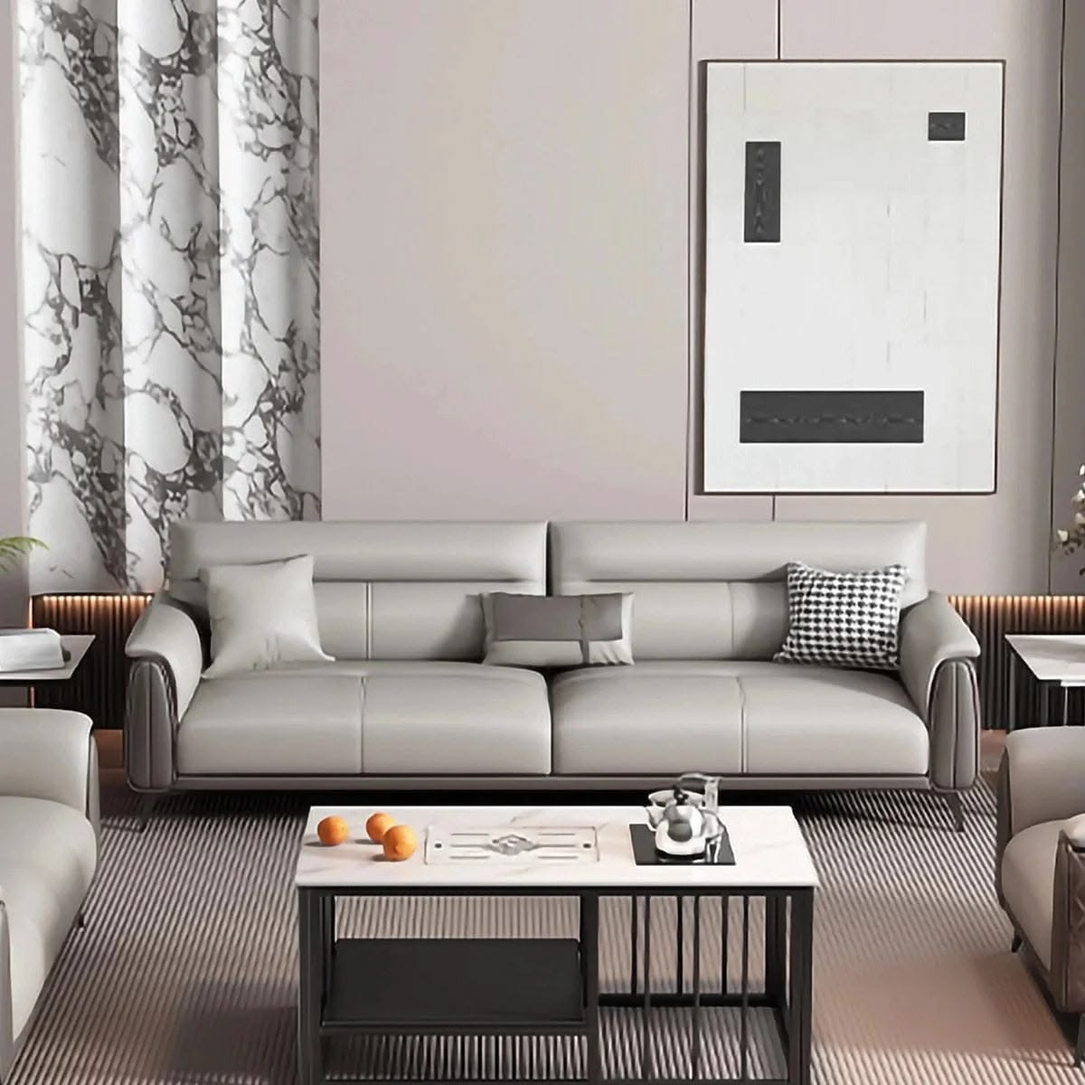3seatersofa: (125, 521, 979, 829)
backrest: (169, 519, 927, 660)
base: (131, 774, 671, 795), (727, 776, 930, 792)
leftarmrest: (901, 593, 979, 788)
leg: (931, 791, 962, 831), (137, 793, 165, 831)
pillow: (205, 558, 329, 675), (776, 563, 902, 668), (481, 593, 634, 668)
rightarmrest: (126, 591, 202, 791)
seat: (165, 658, 931, 782)
